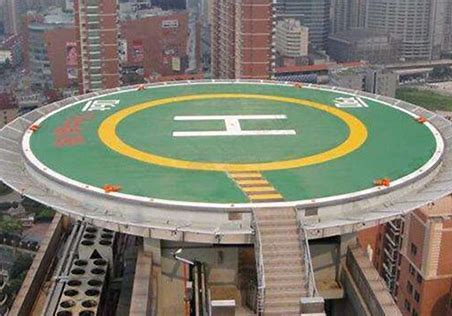H: (173, 114, 296, 135)
